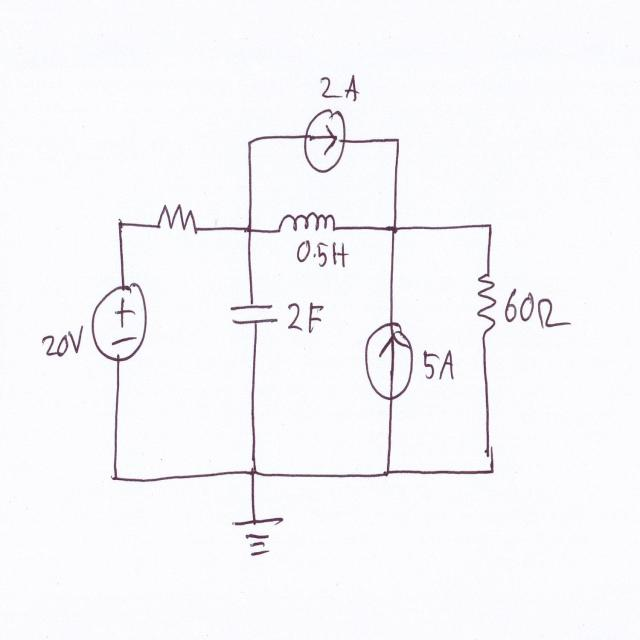capacitor: (227, 292, 280, 333)
current_source: (360, 313, 416, 403), (301, 100, 351, 178)
ground: (228, 511, 285, 564)
inductor: (271, 202, 341, 239)
resistor: (472, 262, 502, 342), (153, 193, 204, 240)
voltage_source: (87, 272, 152, 371)
